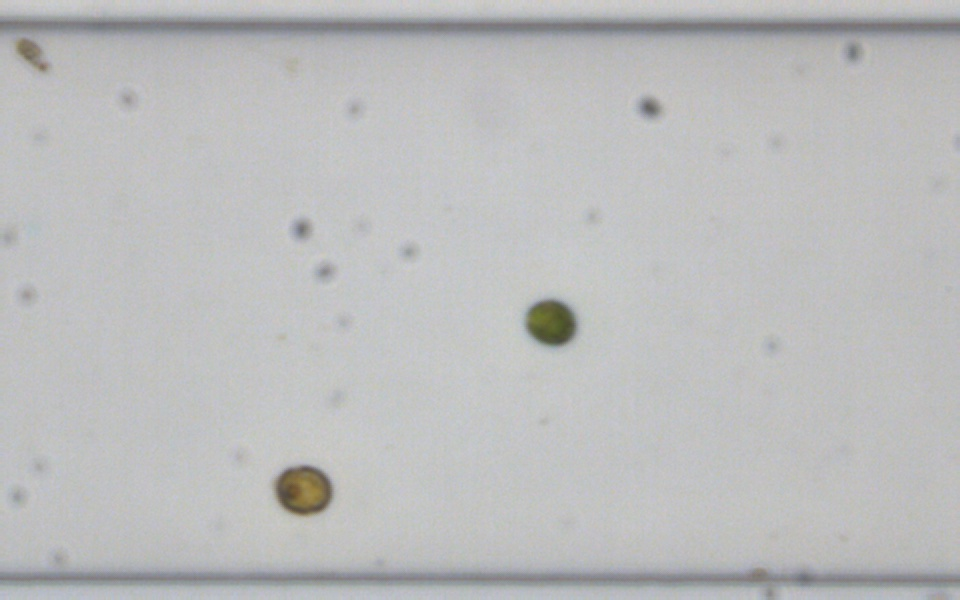Dunaliella salina: (8, 32, 58, 80)
Effrenium: (271, 462, 333, 517)
Platymonas: (522, 295, 577, 346)
